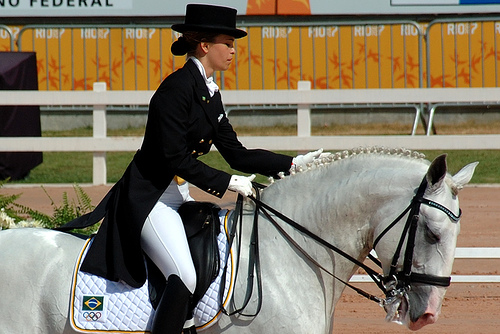without_mask: (185, 24, 238, 77)
